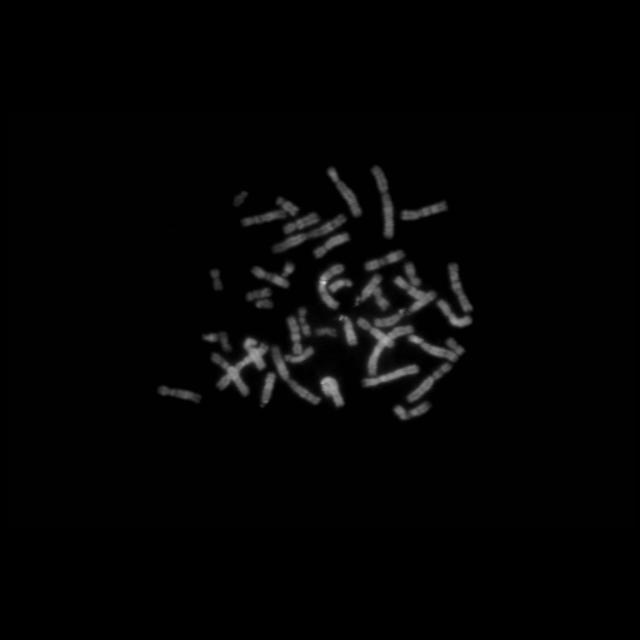chromosome: (272, 214, 346, 254), (272, 346, 321, 406), (217, 343, 268, 389), (374, 290, 438, 326), (368, 326, 414, 376), (407, 362, 451, 402), (371, 165, 393, 239), (328, 168, 360, 218), (212, 353, 248, 397), (363, 364, 419, 388), (408, 335, 458, 361), (317, 265, 343, 309), (356, 318, 394, 348), (394, 276, 434, 304), (450, 264, 472, 312), (437, 299, 471, 327), (314, 232, 350, 258), (252, 266, 290, 288), (355, 273, 381, 305), (401, 202, 447, 220), (240, 209, 286, 227), (366, 250, 404, 270), (244, 336, 266, 369), (158, 387, 200, 403), (322, 376, 344, 406), (283, 214, 319, 232), (394, 402, 430, 420), (284, 345, 314, 363), (288, 317, 302, 355), (339, 315, 356, 345), (370, 286, 390, 310), (277, 197, 299, 217), (261, 373, 275, 403), (406, 262, 420, 288), (447, 338, 465, 356), (328, 280, 352, 292), (300, 307, 310, 335), (248, 288, 270, 300), (211, 270, 223, 290), (316, 327, 336, 338), (235, 190, 248, 206), (221, 332, 231, 350), (255, 300, 272, 310), (282, 262, 294, 276), (202, 332, 218, 342)
